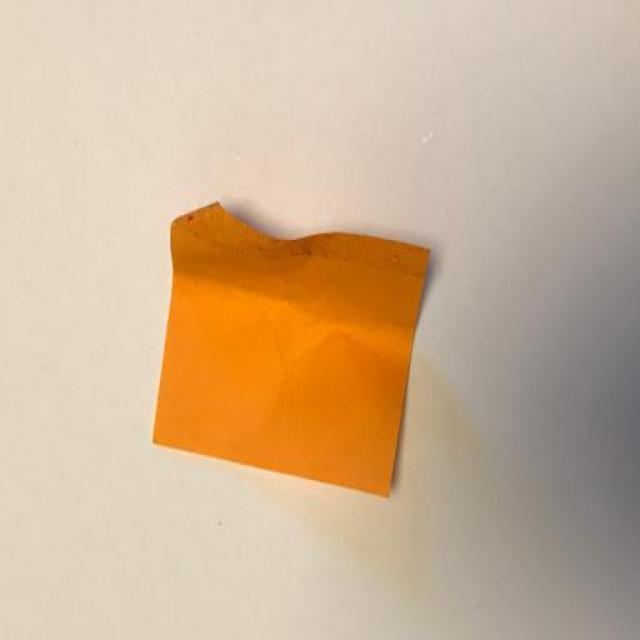paper: (152, 202, 432, 503)
